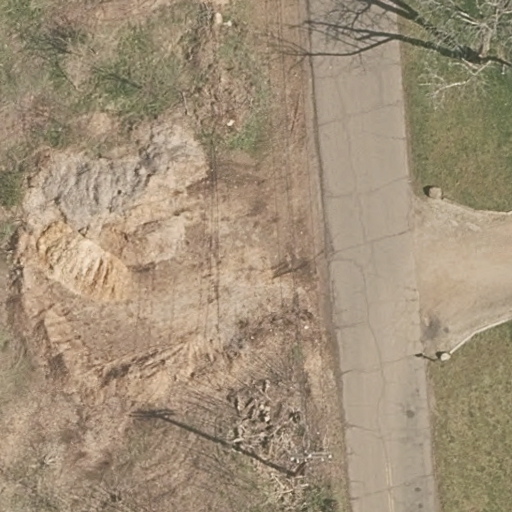DT: (282, 435, 339, 483)
